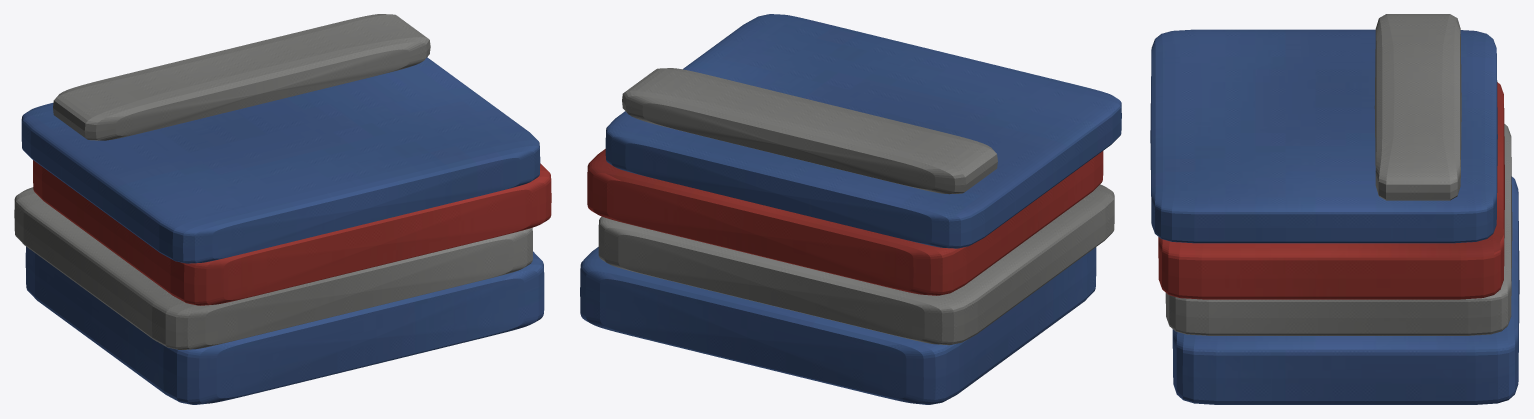
File: roupas.glb
3 renders of one model, left to right at view 1: azimuth 30°, elevation 25°; view 2: azimuth 150°, elevation 25°; view 3: azimuth 270°, elevation 25°, orthographic.
Parts seen in each view (by area): view 1: roupas_tecido_azul, roupas_tecido_cinza, roupas_tecido_vermelho; view 2: roupas_tecido_azul, roupas_tecido_cinza, roupas_tecido_vermelho; view 3: roupas_tecido_azul, roupas_tecido_cinza, roupas_tecido_vermelho.
Part boxes in pixels (box(x1,y1,x2,y2)): roupas_tecido_azul: box(21, 57, 544, 404); roupas_tecido_cinza: box(14, 14, 532, 349); roupas_tecido_vermelho: box(33, 160, 551, 305); roupas_tecido_azul: box(580, 14, 1121, 404); roupas_tecido_cinza: box(598, 68, 1114, 345); roupas_tecido_vermelho: box(587, 149, 1103, 295); roupas_tecido_azul: box(1150, 29, 1519, 404); roupas_tecido_cinza: box(1165, 14, 1512, 335); roupas_tecido_vermelho: box(1158, 82, 1504, 299).
Size of the model in its own units: 0.3115 by 0.1708 by 0.255.
3 materials, 3 textured.
